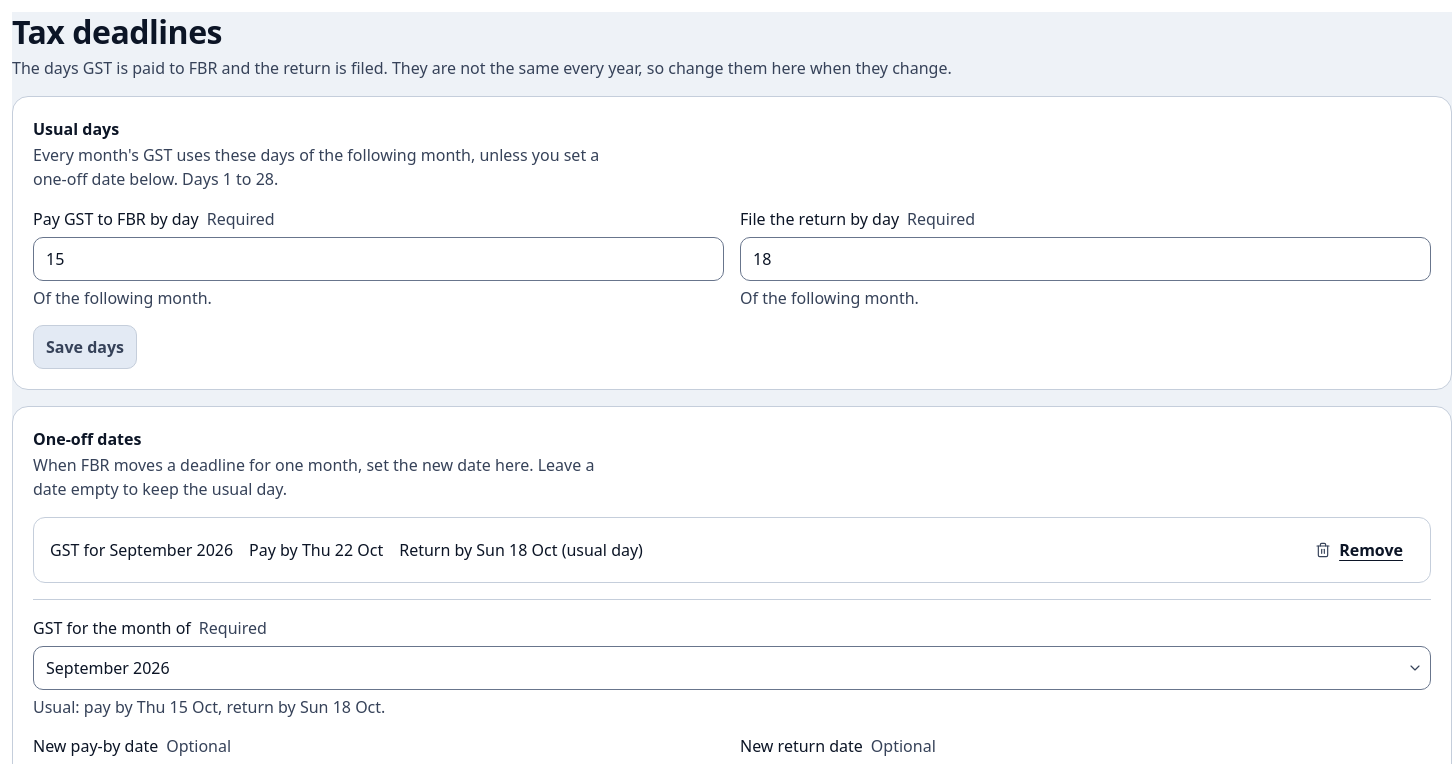
it: Settings > Tax deadlines › refuses a day outside 1 to 28 before anything is sent
The image size is (1452, 764).
Replace the text in the field labelled "Pay GST to FBR by day" with "31" at (378, 259), box 33,237 -> 724,281
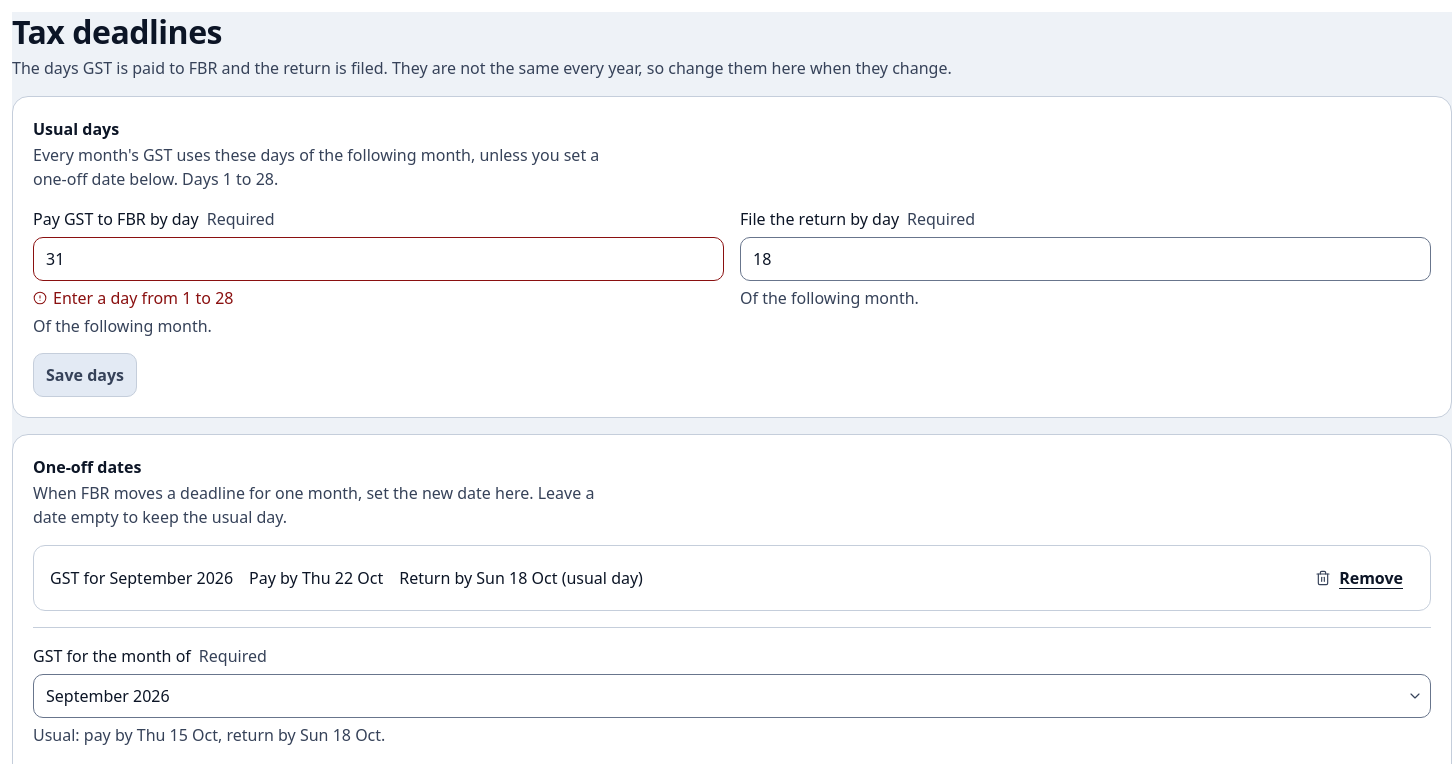
Expected: the button "Save days" is disabled, 33,353 -> 137,397
Expected: the text "Enter a day from 1 to 28" is shown, 53,287 -> 234,309
